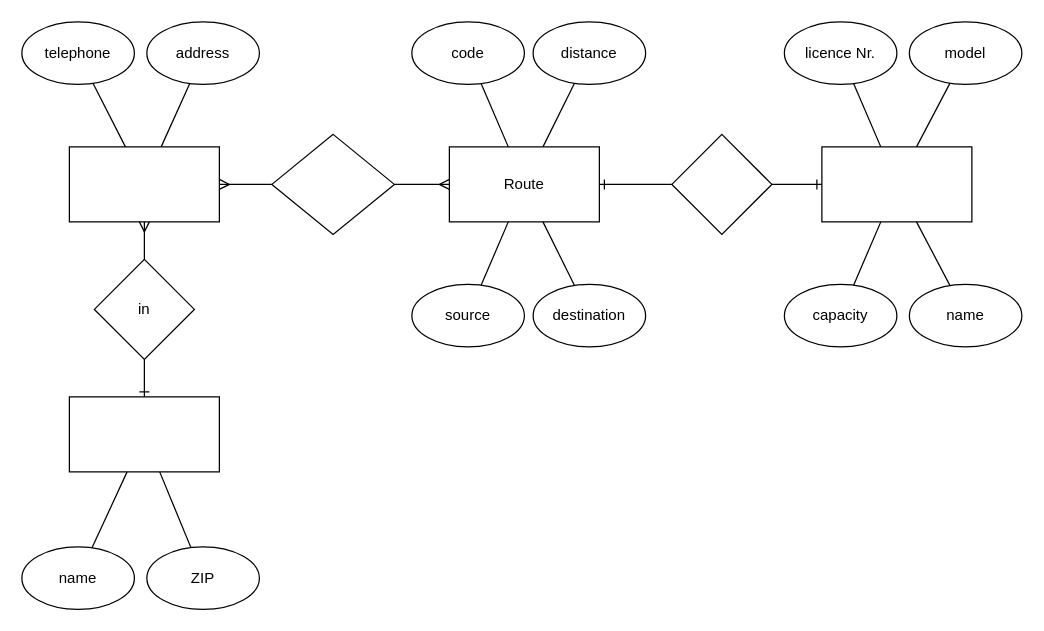
The diagram is 1044 pixels wide and 631 high, and some of its shapes have lost their labels. The centre of each missing label's shape, as x and y in pixels:
"Bus" belongs at [896,184].
"Bus Station" belongs at [143,184].
"City" belongs at [143,434].
"drive" belongs at [721,183].
"stop" belongs at [332,183].
